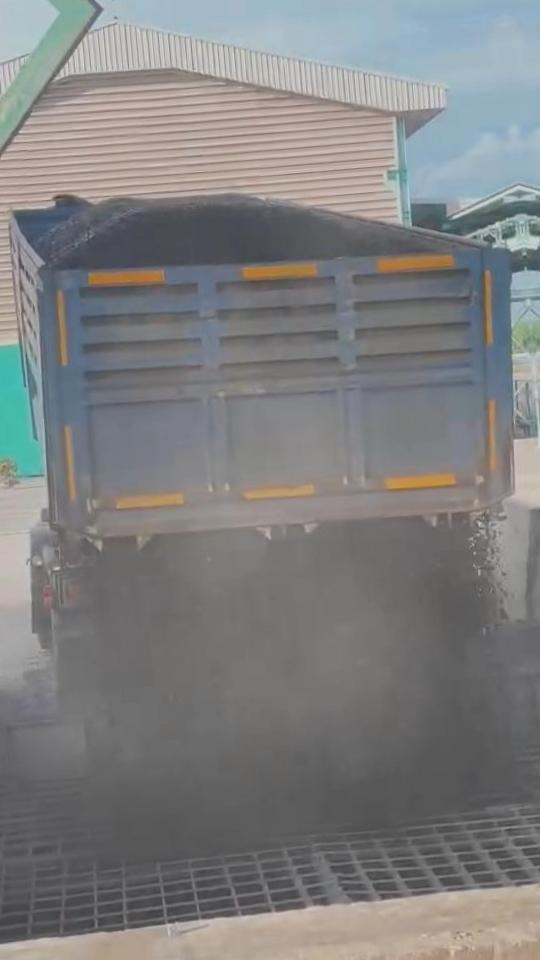gravel: (92, 518, 504, 835), (43, 197, 409, 270), (0, 668, 58, 732)
